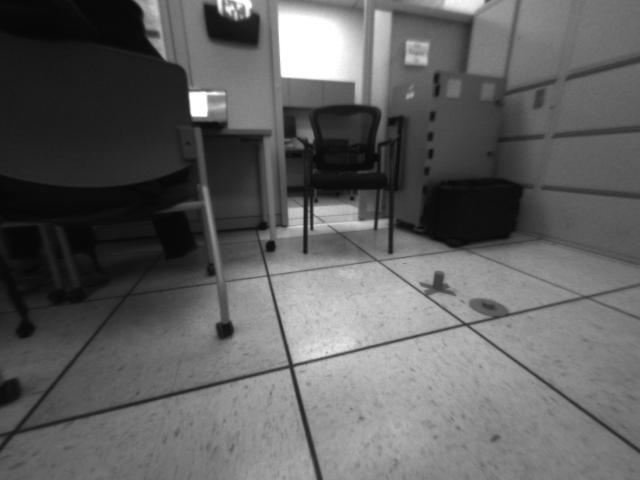X: (419, 269, 457, 297)
